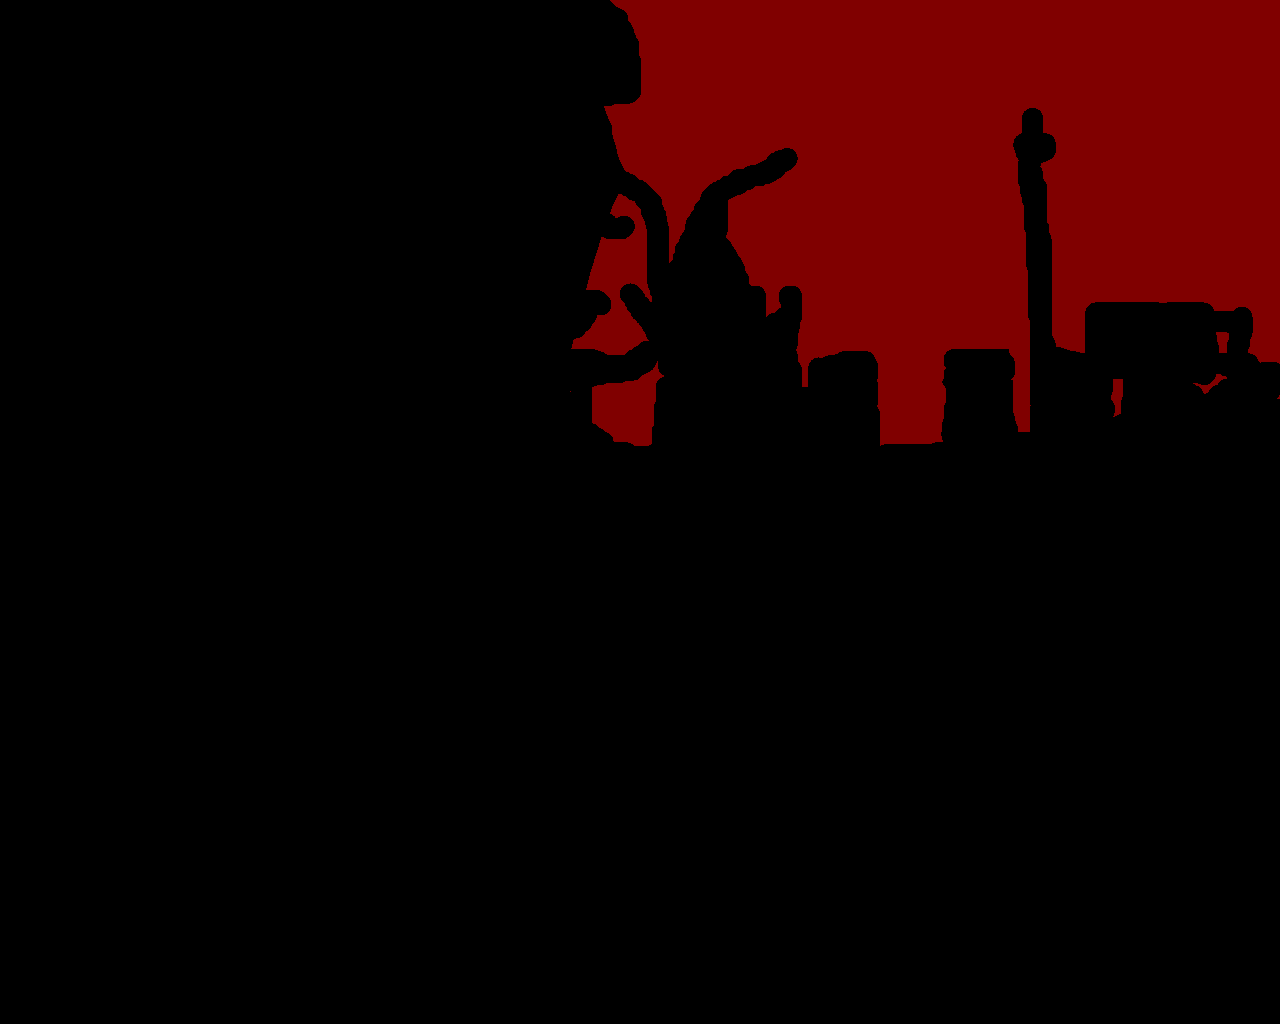Sky: (571, 1, 1279, 446)
